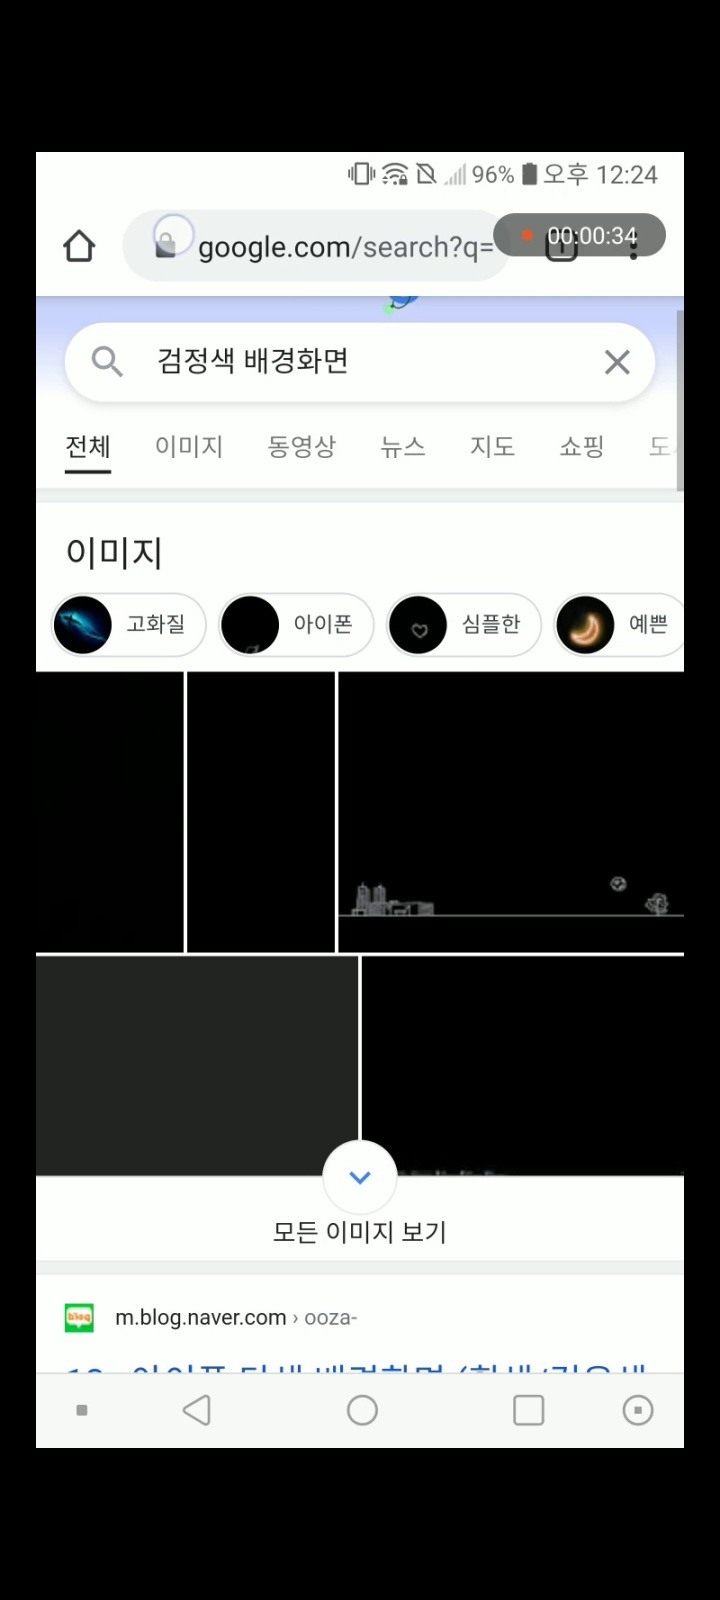Cursor: (153, 210, 198, 256)
